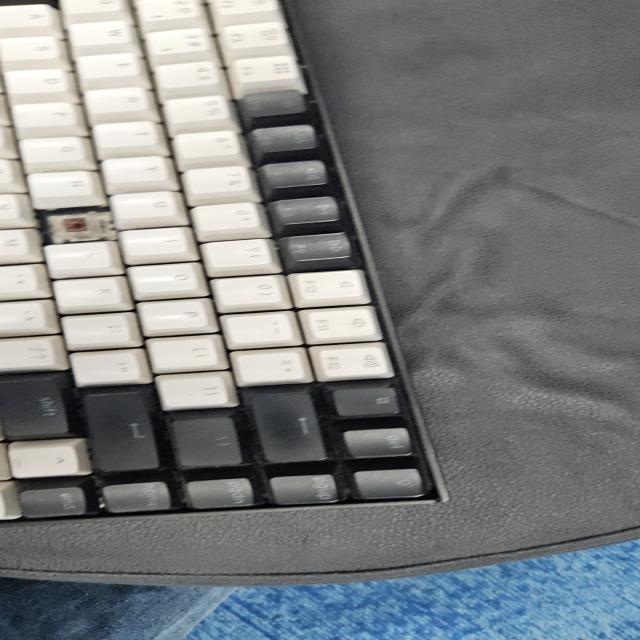C: (49, 214, 91, 234)
